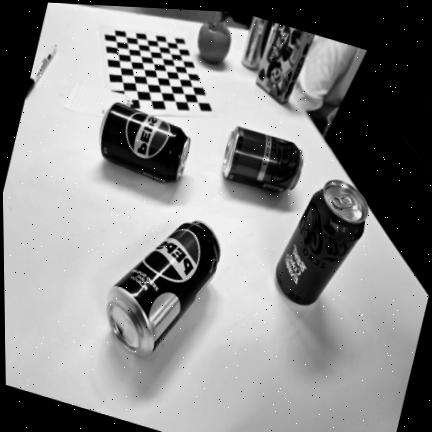can_coke_decaf: (223, 127, 302, 191)
can_coke_zero: (275, 179, 368, 304)
can_pepsi: (99, 103, 190, 183)
can_pepsi_zero: (107, 221, 219, 355)
